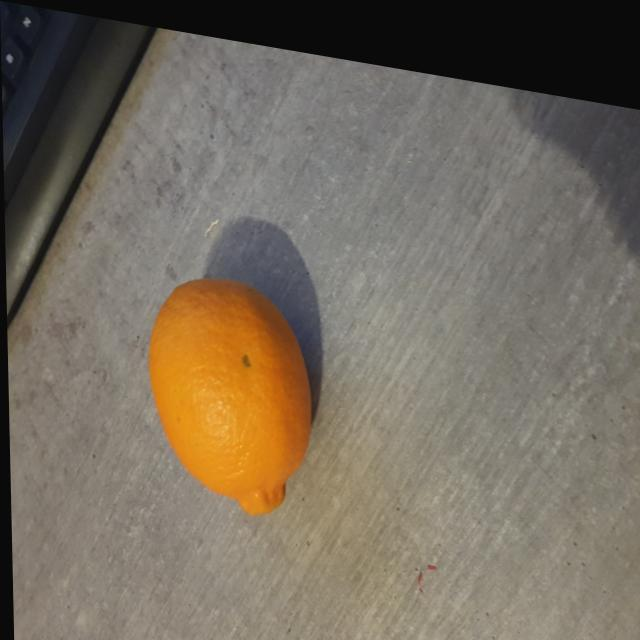Orange: (147, 270, 311, 507)
